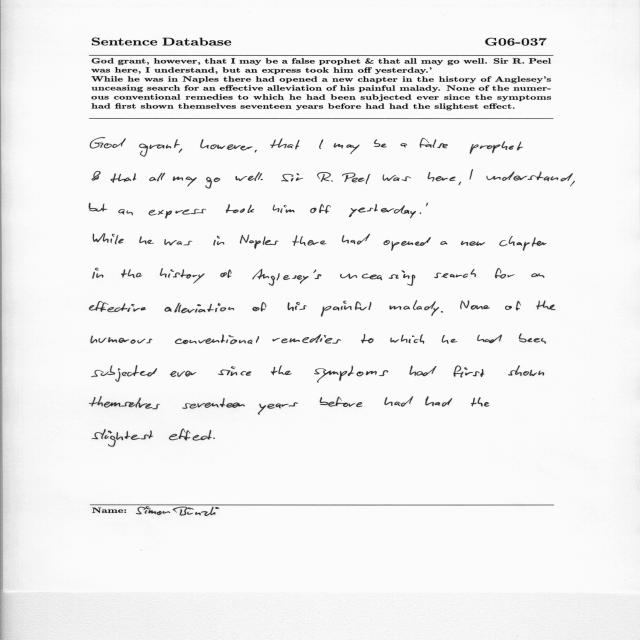word: (314, 366, 388, 383), (340, 270, 415, 286), (252, 269, 322, 286), (92, 365, 157, 382), (92, 429, 153, 447), (349, 204, 416, 218), (89, 397, 160, 410), (486, 172, 573, 182), (175, 335, 259, 345), (321, 301, 371, 317), (390, 300, 440, 316), (139, 139, 180, 157), (500, 236, 547, 251), (182, 398, 245, 409), (165, 303, 234, 313), (272, 334, 341, 344), (470, 141, 523, 154), (160, 268, 205, 283), (383, 237, 431, 251), (200, 139, 253, 151), (89, 301, 146, 312), (148, 209, 206, 219), (240, 235, 279, 249), (258, 402, 298, 415), (91, 336, 152, 344), (169, 429, 212, 440), (320, 397, 363, 407), (90, 138, 126, 149), (508, 366, 544, 377), (434, 269, 476, 278), (293, 235, 327, 246), (454, 366, 485, 378), (391, 334, 425, 344), (218, 366, 252, 376), (270, 139, 300, 150), (342, 173, 371, 184), (385, 396, 414, 407), (93, 234, 124, 244), (342, 234, 370, 245), (460, 300, 490, 310), (426, 396, 453, 407), (419, 138, 448, 148), (334, 143, 360, 154), (428, 172, 456, 182), (409, 366, 437, 376), (519, 334, 546, 344), (173, 176, 197, 187), (226, 204, 254, 213), (111, 173, 136, 183), (235, 172, 262, 181), (271, 366, 292, 376), (495, 268, 514, 279), (477, 335, 502, 343), (281, 173, 303, 182), (383, 175, 411, 182), (165, 239, 193, 246), (310, 204, 331, 213), (121, 269, 142, 278), (536, 301, 556, 310), (471, 397, 489, 407), (273, 205, 295, 213), (288, 302, 307, 311), (205, 177, 220, 188), (89, 203, 107, 212), (317, 172, 333, 182), (170, 371, 196, 377), (149, 173, 165, 182), (505, 301, 521, 310), (442, 335, 457, 344), (253, 302, 267, 311), (93, 268, 104, 279), (139, 236, 154, 244), (461, 241, 485, 246), (214, 236, 225, 246), (220, 269, 232, 278), (361, 334, 373, 343), (374, 140, 387, 148), (118, 209, 133, 215), (92, 171, 101, 180), (532, 273, 545, 278), (319, 140, 323, 149), (470, 170, 473, 180), (441, 241, 448, 245), (570, 181, 575, 186), (401, 143, 407, 147), (179, 148, 183, 153), (459, 182, 461, 186), (426, 203, 428, 206), (255, 150, 257, 152), (420, 212, 422, 214), (441, 311, 443, 313), (261, 179, 263, 180), (213, 438, 215, 439)
